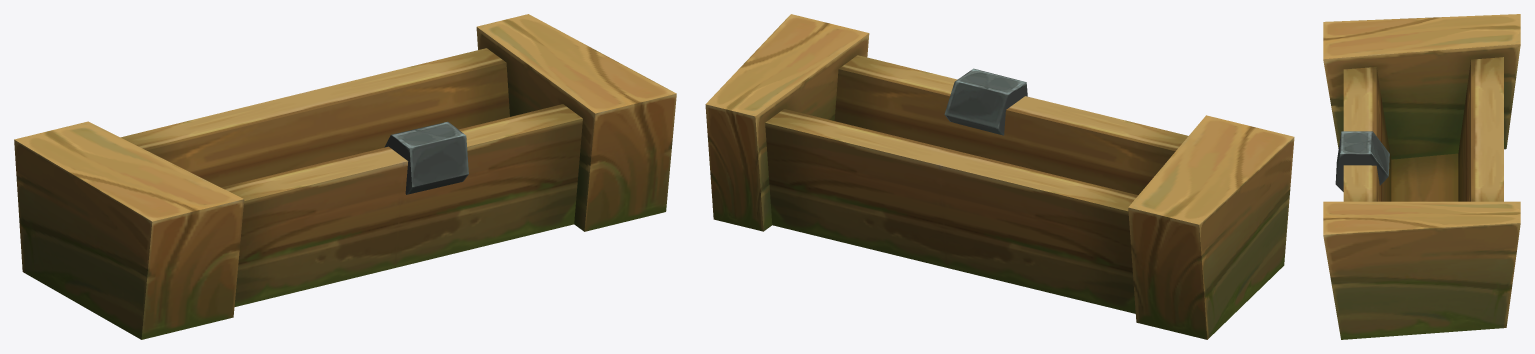
File: map_1002_shicao_01.FBX
The picture shows the model from 3 angles, left to right: view 1: azimuth 30°, elevation 25°; view 2: azimuth 150°, elevation 25°; view 3: azimuth 270°, elevation 25°; orthographic projection. The views are drawn at different scales.
Parts seen in each view (by area): view 1: map_1002_shicao_01; view 2: map_1002_shicao_01; view 3: map_1002_shicao_01.
Part boxes in pixels (x1,y1,x2,y2): map_1002_shicao_01: [14, 14, 676, 339]; map_1002_shicao_01: [705, 14, 1294, 339]; map_1002_shicao_01: [1323, 14, 1520, 339].
Size of the model in its own units: 4.37 by 0.9683 by 1.65.
